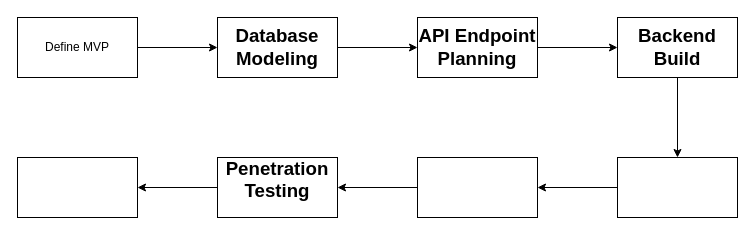
Some shapes in this 755 by 249 pixel diagram are drawn without their labels. The centre of each missing label's shape, as x and y in pixels:
"Frontend Build" goes at [477,187].
"Hosting and deploying" goes at [77,187].
"UI/UX design" goes at [677,187].
